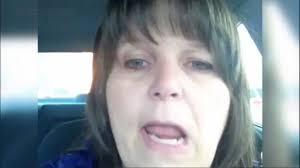strokeEyeWeak: (114, 39, 221, 83)
